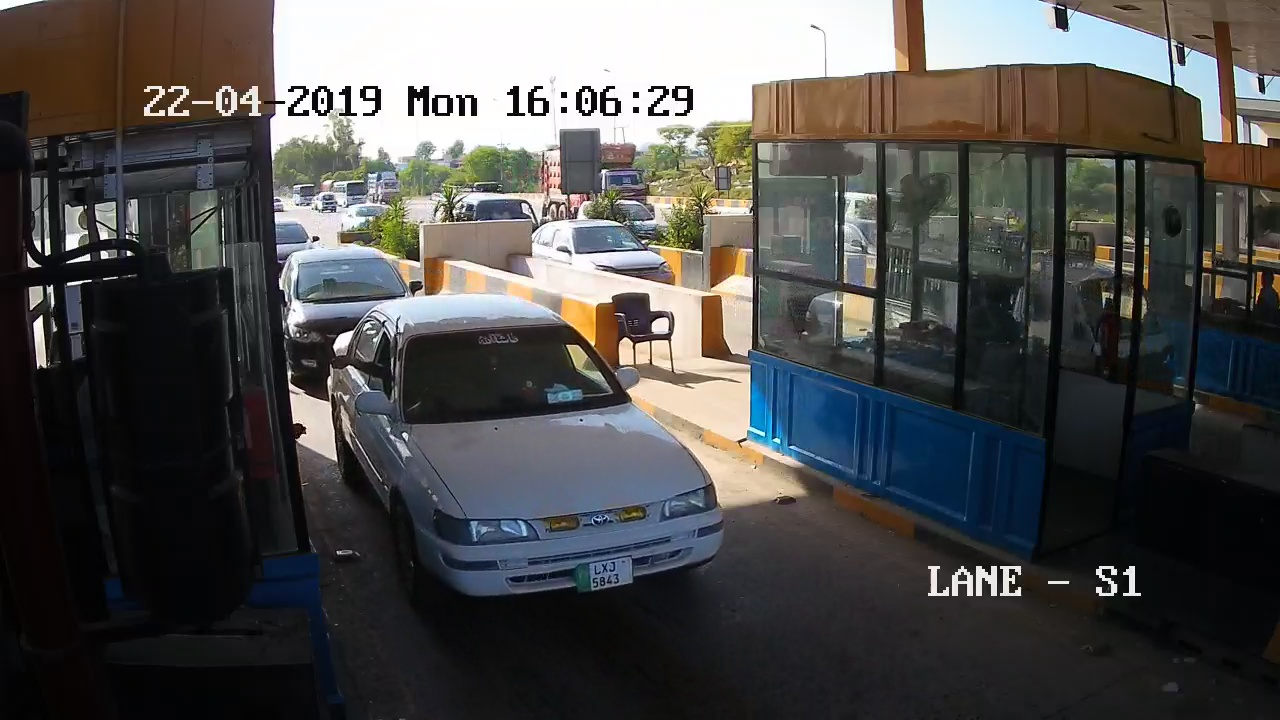Number Plate (Car): (573, 557, 635, 591)
